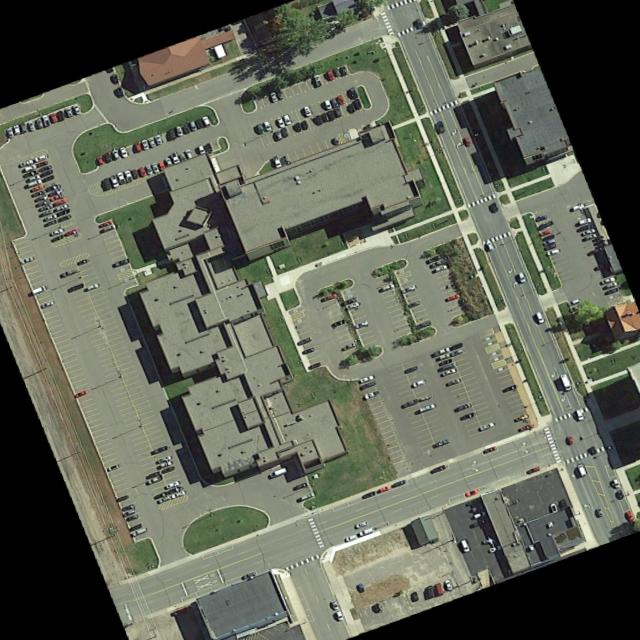large-vehicle: (560, 374, 572, 391), (269, 467, 287, 478), (414, 321, 431, 330), (131, 528, 147, 537), (299, 492, 315, 501), (401, 285, 416, 294), (460, 540, 470, 553), (307, 362, 321, 371), (294, 482, 308, 491), (577, 465, 587, 477), (435, 121, 445, 133), (380, 284, 394, 292), (575, 409, 584, 421), (170, 152, 179, 164), (272, 156, 281, 168), (434, 265, 447, 273), (298, 337, 311, 345), (517, 272, 526, 283), (535, 312, 544, 323), (446, 294, 459, 301), (485, 241, 494, 251), (197, 145, 206, 155), (185, 149, 194, 159), (408, 301, 419, 309), (473, 512, 485, 519), (175, 126, 182, 137), (168, 129, 175, 139)
small-vehicle: (418, 403, 435, 414), (536, 221, 553, 232), (68, 283, 84, 294), (363, 390, 380, 400), (358, 527, 375, 537), (434, 438, 451, 448), (402, 399, 418, 409), (472, 518, 488, 528), (430, 259, 446, 269), (427, 254, 443, 264), (360, 381, 377, 390), (469, 504, 484, 514), (430, 465, 445, 475), (61, 269, 77, 278), (170, 490, 186, 499), (45, 184, 61, 193), (433, 348, 449, 357), (434, 583, 444, 597), (588, 247, 602, 257), (114, 258, 128, 268), (479, 422, 494, 431), (165, 481, 180, 490), (153, 446, 168, 455), (449, 348, 464, 357), (353, 321, 368, 330), (441, 362, 456, 371), (359, 375, 374, 384), (31, 286, 46, 295), (241, 572, 256, 581), (487, 545, 502, 554), (579, 223, 594, 232), (519, 423, 534, 432), (312, 115, 323, 127), (123, 170, 133, 183), (116, 172, 126, 185), (505, 499, 518, 509), (412, 379, 426, 388), (403, 366, 417, 375), (20, 256, 34, 265), (482, 446, 496, 455), (34, 194, 48, 203), (568, 304, 582, 313), (594, 262, 608, 271), (361, 491, 375, 500), (279, 127, 290, 138), (322, 294, 337, 302), (48, 189, 63, 197), (168, 486, 183, 494), (326, 110, 336, 122), (456, 403, 471, 411), (567, 298, 580, 307), (65, 228, 78, 237), (120, 504, 133, 513), (74, 390, 87, 399), (601, 277, 615, 285), (577, 218, 591, 226), (85, 283, 99, 291), (157, 496, 171, 504), (157, 456, 171, 464), (355, 521, 369, 529), (392, 480, 406, 488), (441, 369, 455, 377), (446, 379, 460, 387), (346, 302, 360, 310), (57, 215, 71, 223), (56, 209, 70, 217), (27, 179, 41, 187), (116, 495, 130, 503), (110, 174, 118, 188), (542, 238, 556, 246), (461, 412, 475, 420), (449, 343, 463, 351), (147, 476, 161, 484), (587, 446, 597, 457), (409, 592, 419, 603), (348, 88, 358, 99), (320, 112, 330, 123), (188, 121, 198, 132), (119, 146, 128, 158), (56, 110, 65, 122), (42, 115, 51, 127), (313, 75, 322, 87), (36, 200, 48, 209), (180, 123, 189, 135), (342, 298, 355, 306), (582, 228, 595, 236), (344, 534, 357, 542), (40, 170, 53, 178), (32, 190, 45, 198), (100, 220, 113, 228), (102, 225, 115, 233), (302, 348, 315, 356), (377, 486, 390, 494), (515, 414, 528, 422), (122, 509, 135, 517), (20, 159, 33, 167), (338, 66, 348, 76), (330, 600, 340, 610), (72, 104, 81, 115), (302, 106, 311, 117), (275, 117, 284, 128), (102, 153, 111, 164), (18, 123, 27, 134), (203, 144, 212, 155), (333, 107, 342, 118), (293, 123, 302, 134), (281, 155, 290, 166), (625, 511, 634, 522), (444, 580, 453, 591), (53, 199, 67, 206), (33, 155, 47, 162), (541, 235, 555, 242), (465, 489, 477, 497), (51, 228, 63, 236), (42, 175, 54, 183), (141, 139, 149, 151), (374, 602, 382, 614), (102, 179, 110, 191), (125, 514, 137, 522), (41, 301, 54, 308), (543, 244, 556, 251), (332, 320, 345, 327), (55, 204, 68, 211), (49, 195, 62, 202), (38, 166, 51, 173), (155, 493, 168, 500), (51, 235, 64, 242), (491, 202, 498, 215), (161, 467, 174, 474), (159, 461, 172, 468), (612, 478, 621, 488), (64, 108, 73, 118), (323, 100, 332, 110), (49, 113, 58, 123), (5, 128, 14, 138), (201, 116, 210, 126), (356, 584, 365, 594), (299, 121, 308, 131), (195, 119, 204, 129), (462, 137, 471, 147), (549, 503, 558, 513), (336, 95, 345, 105), (353, 99, 361, 110), (415, 19, 423, 30), (346, 104, 354, 115), (107, 464, 118, 472), (151, 162, 159, 173), (341, 344, 353, 351), (606, 288, 618, 295), (605, 282, 617, 289), (584, 234, 596, 241), (572, 204, 584, 211), (547, 249, 559, 256), (539, 230, 551, 237), (535, 215, 547, 222), (46, 220, 58, 227), (28, 175, 40, 182), (25, 165, 37, 172), (482, 538, 496, 544), (527, 467, 539, 474), (130, 524, 142, 531), (147, 472, 159, 479), (76, 259, 88, 266), (330, 99, 339, 108), (558, 499, 566, 509), (616, 490, 624, 500), (111, 150, 119, 160), (12, 125, 20, 135), (256, 124, 264, 134), (263, 121, 271, 131), (148, 138, 156, 148), (283, 115, 291, 125), (326, 71, 334, 81), (154, 135, 162, 145), (566, 435, 574, 445), (164, 157, 172, 167), (178, 153, 186, 163), (335, 611, 343, 621), (145, 165, 153, 175), (428, 585, 434, 598), (32, 185, 43, 192), (38, 205, 49, 212), (441, 358, 452, 365), (596, 508, 604, 517), (44, 215, 56, 221), (274, 131, 282, 140), (276, 91, 284, 100), (268, 93, 277, 101), (139, 168, 147, 177), (130, 170, 138, 179), (37, 161, 47, 168), (36, 119, 43, 129), (41, 210, 52, 216), (331, 137, 339, 145), (96, 157, 103, 166), (28, 122, 35, 131), (158, 161, 164, 171), (439, 354, 449, 360), (134, 143, 141, 151)
